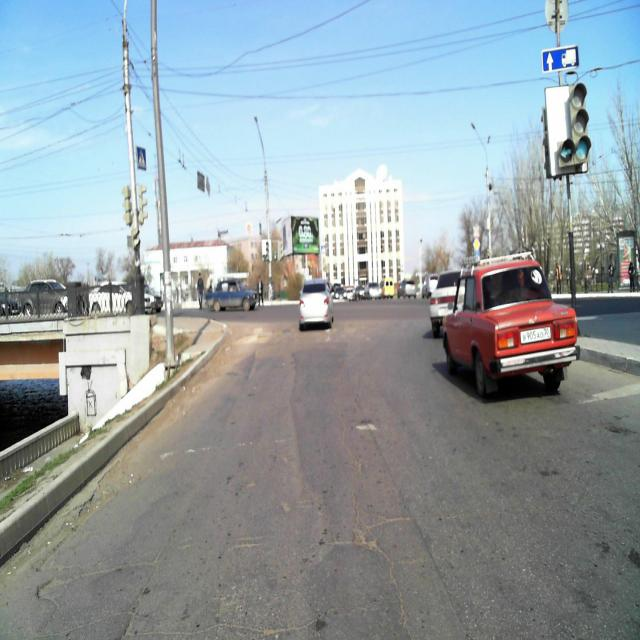road sign: (542, 45, 579, 74), (136, 148, 147, 172)
